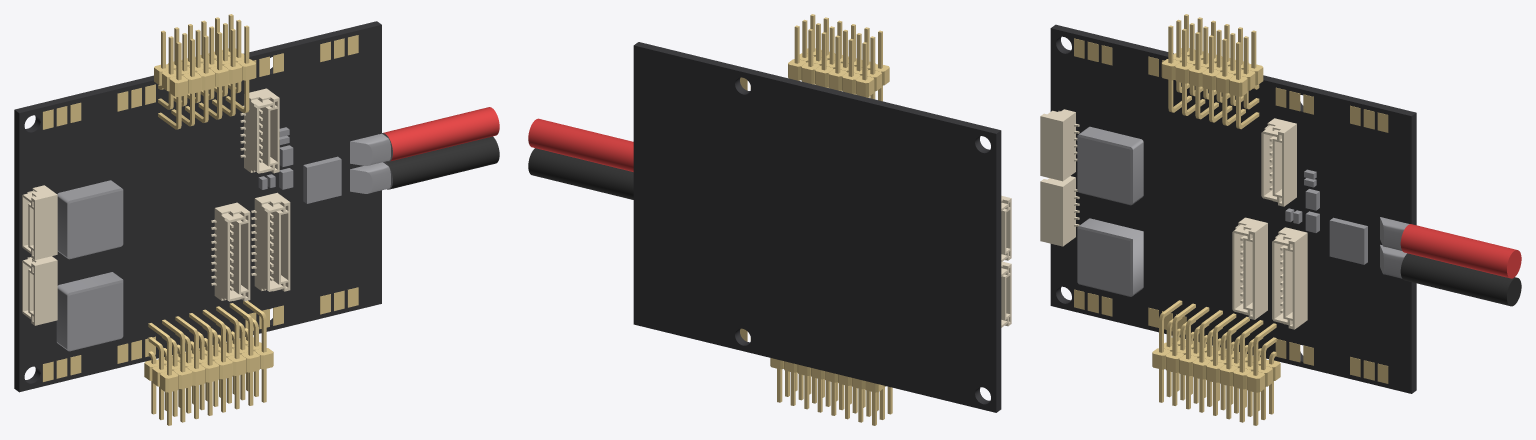
The picture shows the model from 3 angles, left to right: view 1: azimuth 30°, elevation 25°; view 2: azimuth 150°, elevation 25°; view 3: azimuth 330°, elevation 25°; orthographic projection.
Parts seen in each view (by area): view 1: pcb_black, gold, c_e5cc9e, c_5b5b60, wire_red, wire_black; view 2: pcb_black, gold, wire_red, wire_black, c_e5cc9e; view 3: pcb_black, gold, c_e5cc9e, c_5b5b60, wire_red, wire_black.
Part boxes in pixels (x1,y1,x2,y2): pcb_black: [14, 21, 381, 392]; gold: [42, 14, 358, 425]; c_e5cc9e: [22, 88, 290, 325]; c_5b5b60: [56, 127, 392, 351]; wire_red: [383, 107, 499, 161]; wire_black: [385, 136, 499, 189]; pcb_black: [633, 42, 1001, 412]; gold: [740, 14, 892, 425]; wire_red: [528, 118, 633, 171]; wire_black: [528, 148, 633, 199]; c_e5cc9e: [1001, 195, 1011, 327]; pcb_black: [1050, 24, 1416, 393]; gold: [1074, 14, 1388, 425]; c_e5cc9e: [1040, 109, 1307, 329]; c_5b5b60: [1077, 126, 1409, 296]; wire_red: [1400, 224, 1521, 278]; wire_black: [1400, 253, 1521, 306].
Size of the model in its own units: 0.088 by 0.068 by 0.00918.
